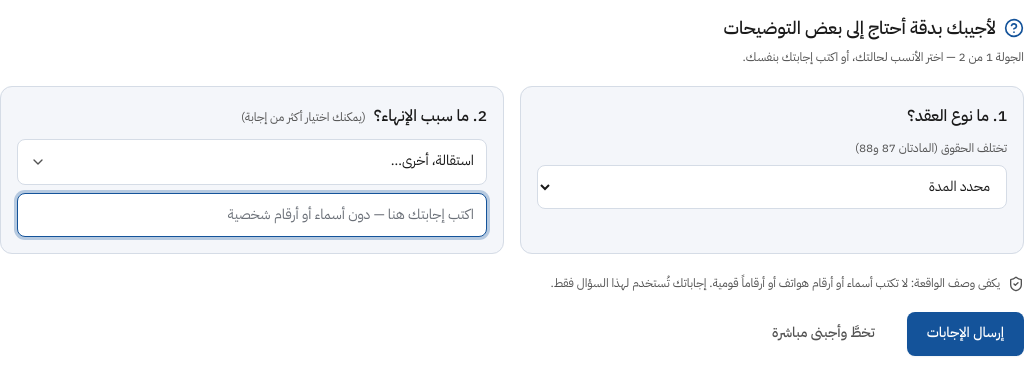
ClarificationCard › اختيار من القائمة + خانات + نص حر → حمولة صحيحة عند الإرسال
This screenshot has width=1036, height=374.
Earlier steps of the test are not shown.
Later steps or results of the test are not shown.
Type "اتفاق ودى" into the field named "إجابتك عن: ما سبب الإنهاء؟" at (252, 215), box [17, 193, 487, 237]
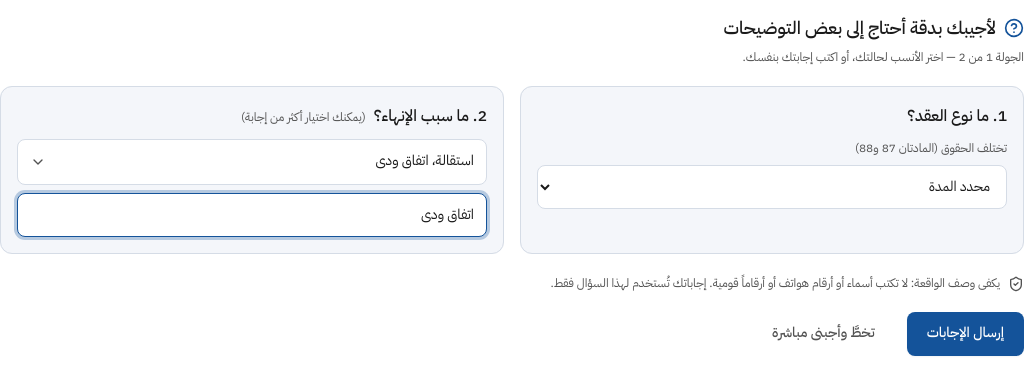
Expected: the button "إرسال الإجابات" is enabled, [907, 312, 1024, 356]
Result: the text with test id "multi-summary" reads "استقالة، اتفاق ودى" at [376, 150, 474, 171]
